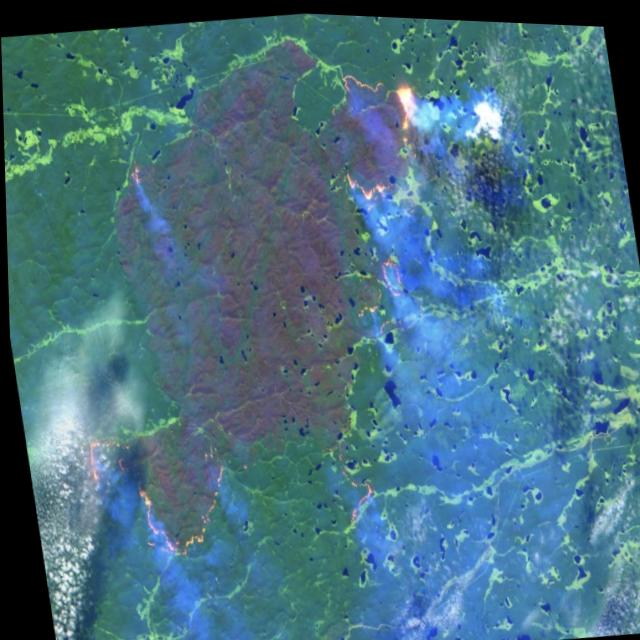fire: (74, 399, 243, 576), (321, 56, 441, 209), (334, 458, 379, 527), (366, 241, 412, 300)
